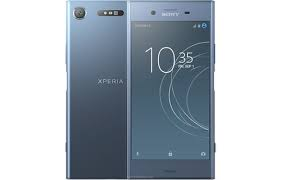sony: (127, 1, 215, 180), (60, 1, 129, 180)
